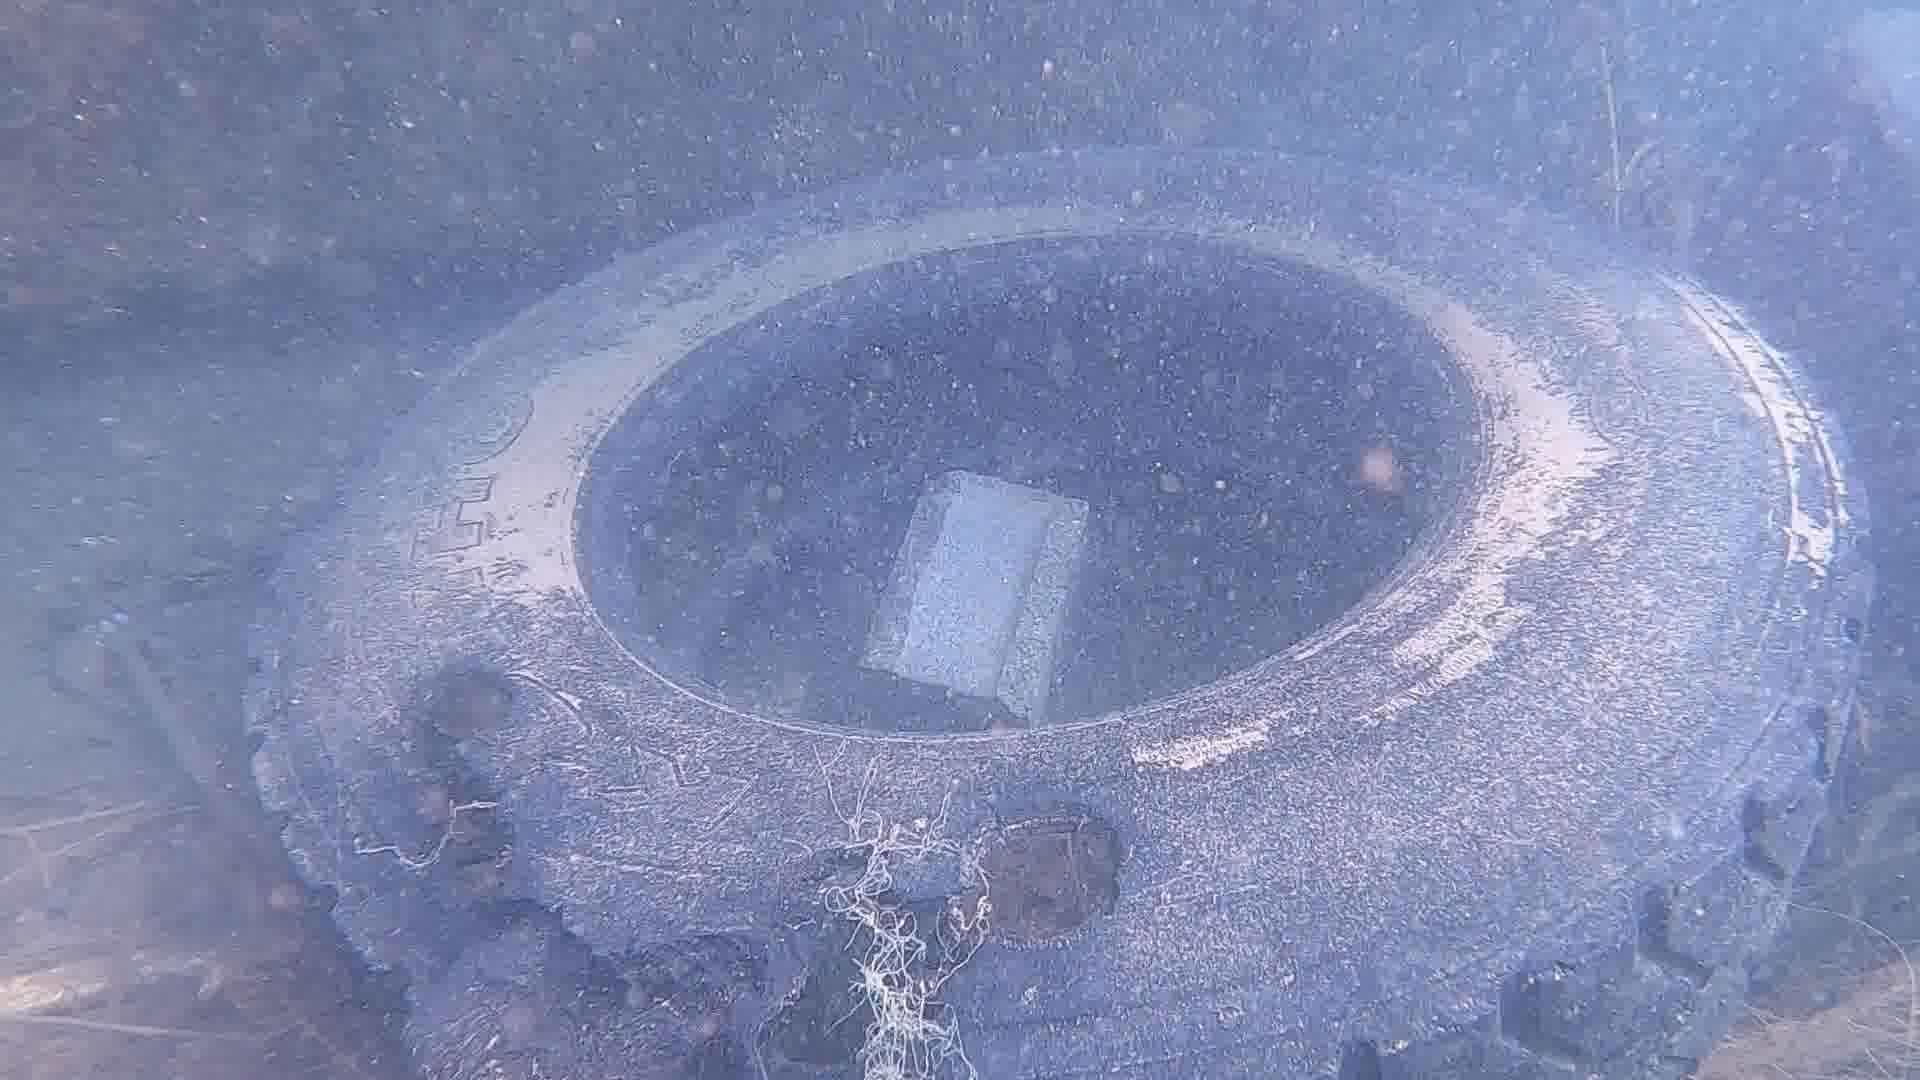tire: (241, 146, 1871, 1080)
